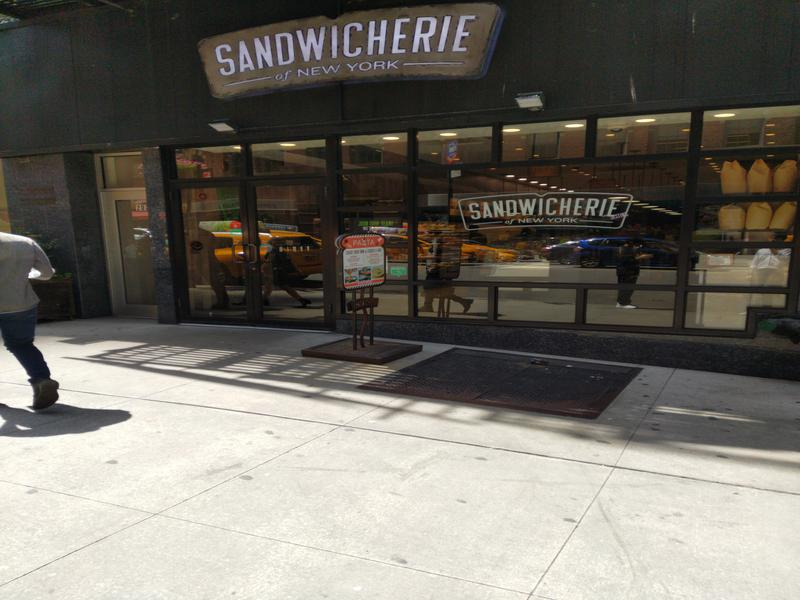double_door: (171, 181, 339, 331)
